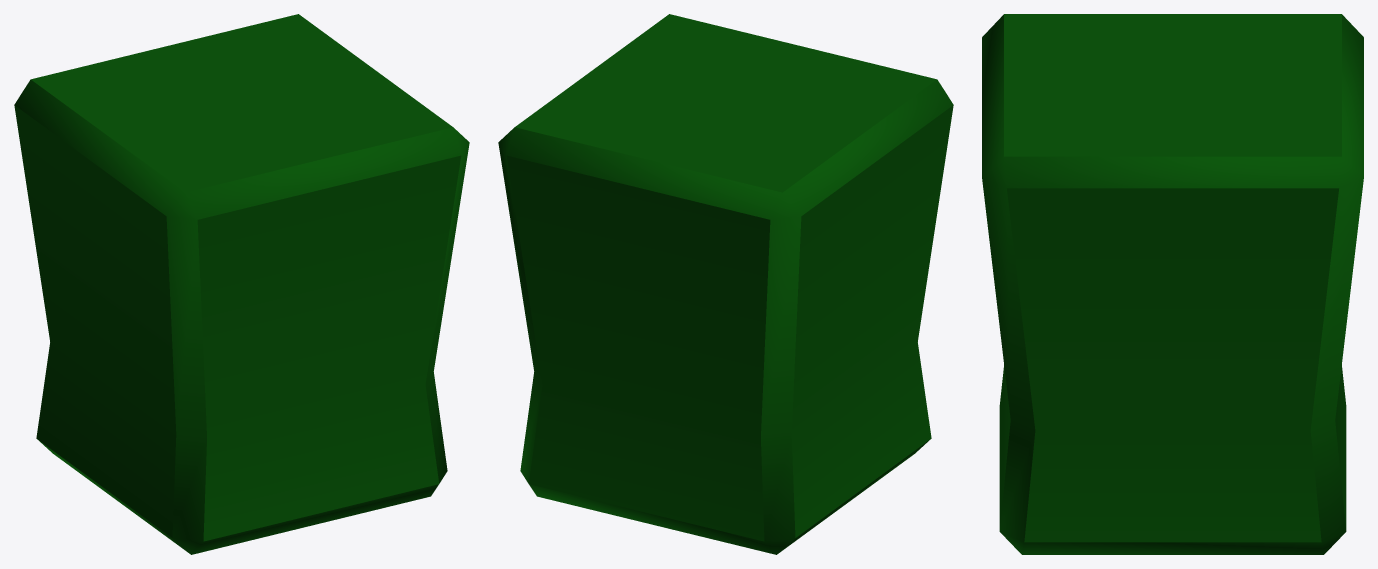
File: Yard_Anywhere_Bush_rectangle.FBX
The picture shows the model from 3 angles, left to right: view 1: azimuth 30°, elevation 25°; view 2: azimuth 150°, elevation 25°; view 3: azimuth 270°, elevation 25°; orthographic projection. The views are drawn at different scales.
Parts seen in each view (by area): view 1: Yard_Anywhere_Bush_rectangle; view 2: Yard_Anywhere_Bush_rectangle; view 3: Yard_Anywhere_Bush_rectangle.
Boxes of the visible parts, x1=… form: Yard_Anywhere_Bush_rectangle: x1=14, y1=14, x2=469, y2=554; Yard_Anywhere_Bush_rectangle: x1=498, y1=14, x2=953, y2=554; Yard_Anywhere_Bush_rectangle: x1=982, y1=14, x2=1363, y2=554.
Bounding box in the file's own units: 177 × 207 × 177.
